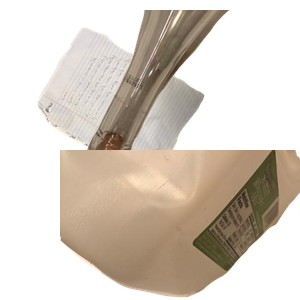glass: (80, 10, 300, 182)
paper: (35, 25, 232, 204)
plastic: (60, 150, 300, 300)
trash: (105, 152, 280, 300)
